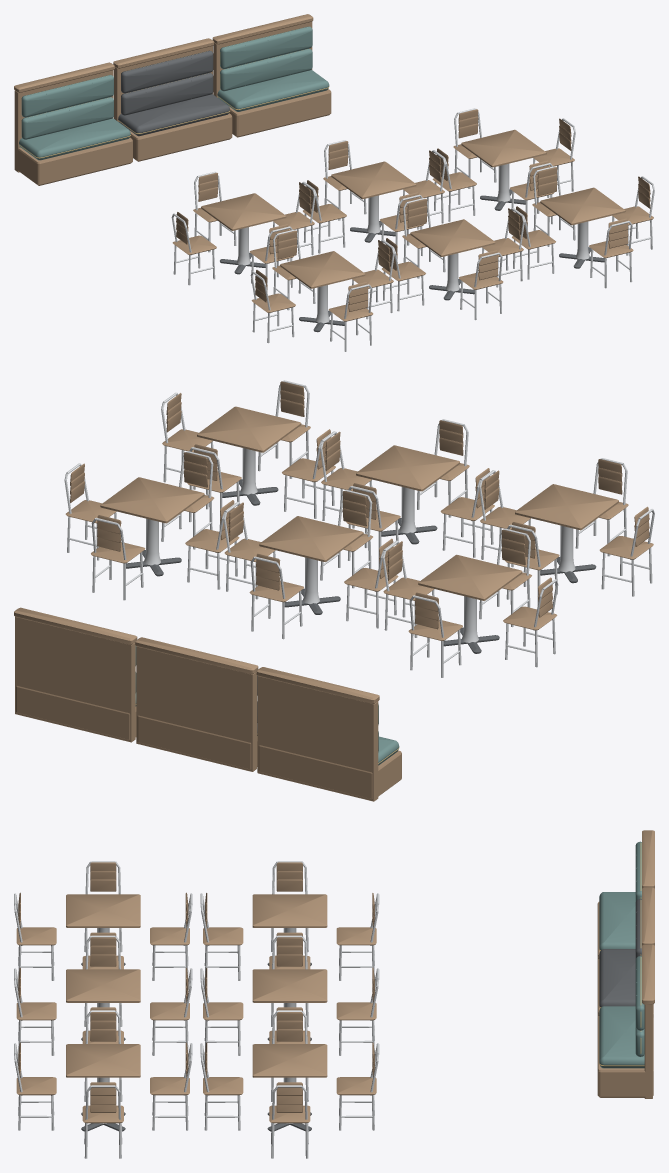
The model's file is restaurant-dining-room-light.glb.
3 renders of one model, top to bottom at view 1: azimuth 30°, elevation 25°; view 2: azimuth 150°, elevation 25°; view 3: azimuth 270°, elevation 25°, orthographic. The views are drawn at different scales.
Parts seen in each view (by area): view 1: 001-banquette-bench-14002, 003-banquette-bench-14002, 002-banquette-bench-1400-dark2, 001-banquette-bench-14000, 003-banquette-bench-14000, 002-banquette-bench-1400-dark0, 027-table-square-42, 017-table-square-42, 022-table-square-42, 032-table-square-42, 037-table-square-42, 042-table-square-42 (+29 smaller); view 2: 001-banquette-bench-14000, 003-banquette-bench-14000, 002-banquette-bench-1400-dark0, 017-table-square-42, 022-table-square-42, 027-table-square-42, 042-table-square-42, 032-table-square-42, 037-table-square-42, 028-side-chair1, 023-side-chair1, 018-side-chair1 (+42 smaller); view 3: 003-banquette-bench-14000, 003-banquette-bench-14002, 017-table-square-42, 022-table-square-42, 027-table-square-42, 037-table-square-42, 042-table-square-42, 032-table-square-42, 002-banquette-bench-1400-dark2, 001-banquette-bench-14002, 031-side-chair1, 046-side-chair1 (+34 smaller).
Part boxes in pixels (x1=…): 001-banquette-bench-14002: x1=19, y1=75, x2=130, y2=160; 003-banquette-bench-14002: x1=217, y1=26, x2=329, y2=111; 002-banquette-bench-1400-dark2: x1=118, y1=50, x2=229, y2=136; 001-banquette-bench-14000: x1=14, y1=62, x2=132, y2=185; 003-banquette-bench-14000: x1=212, y1=14, x2=331, y2=137; 002-banquette-bench-1400-dark0: x1=113, y1=38, x2=232, y2=161; 027-table-square-42: x1=461, y1=129, x2=546, y2=167; 017-table-square-42: x1=201, y1=193, x2=286, y2=230; 022-table-square-42: x1=331, y1=161, x2=416, y2=199; 032-table-square-42: x1=280, y1=251, x2=365, y2=288; 037-table-square-42: x1=410, y1=219, x2=495, y2=256; 042-table-square-42: x1=540, y1=187, x2=625, y2=225; 001-banquette-bench-14000: x1=256, y1=667, x2=401, y2=801; 003-banquette-bench-14000: x1=14, y1=607, x2=137, y2=742; 002-banquette-bench-1400-dark0: x1=135, y1=637, x2=258, y2=771; 017-table-square-42: x1=418, y1=554, x2=522, y2=600; 022-table-square-42: x1=259, y1=516, x2=363, y2=561; 027-table-square-42: x1=100, y1=477, x2=204, y2=523; 042-table-square-42: x1=197, y1=406, x2=301, y2=452; 032-table-square-42: x1=515, y1=484, x2=618, y2=530; 037-table-square-42: x1=356, y1=445, x2=459, y2=491; 028-side-chair1: x1=91, y1=515, x2=145, y2=563; 023-side-chair1: x1=249, y1=554, x2=303, y2=602; 018-side-chair1: x1=408, y1=592, x2=462, y2=640; 003-banquette-bench-14000: x1=597, y1=944, x2=654, y2=1098; 003-banquette-bench-14002: x1=599, y1=956, x2=644, y2=1068; 017-table-square-42: x1=252, y1=894, x2=327, y2=927; 022-table-square-42: x1=252, y1=969, x2=327, y2=1002; 027-table-square-42: x1=252, y1=1044, x2=327, y2=1077; 037-table-square-42: x1=66, y1=969, x2=140, y2=1002; 042-table-square-42: x1=66, y1=1044, x2=140, y2=1077; 032-table-square-42: x1=66, y1=894, x2=140, y2=927; 002-banquette-bench-1400-dark2: x1=599, y1=899, x2=641, y2=1008; 001-banquette-bench-14002: x1=599, y1=841, x2=641, y2=951; 031-side-chair1: x1=269, y1=1082, x2=310, y2=1123; 046-side-chair1: x1=82, y1=1082, x2=123, y2=1123.
Bounding box in the file's own units: 5.87 × 1.18 × 6.87.
